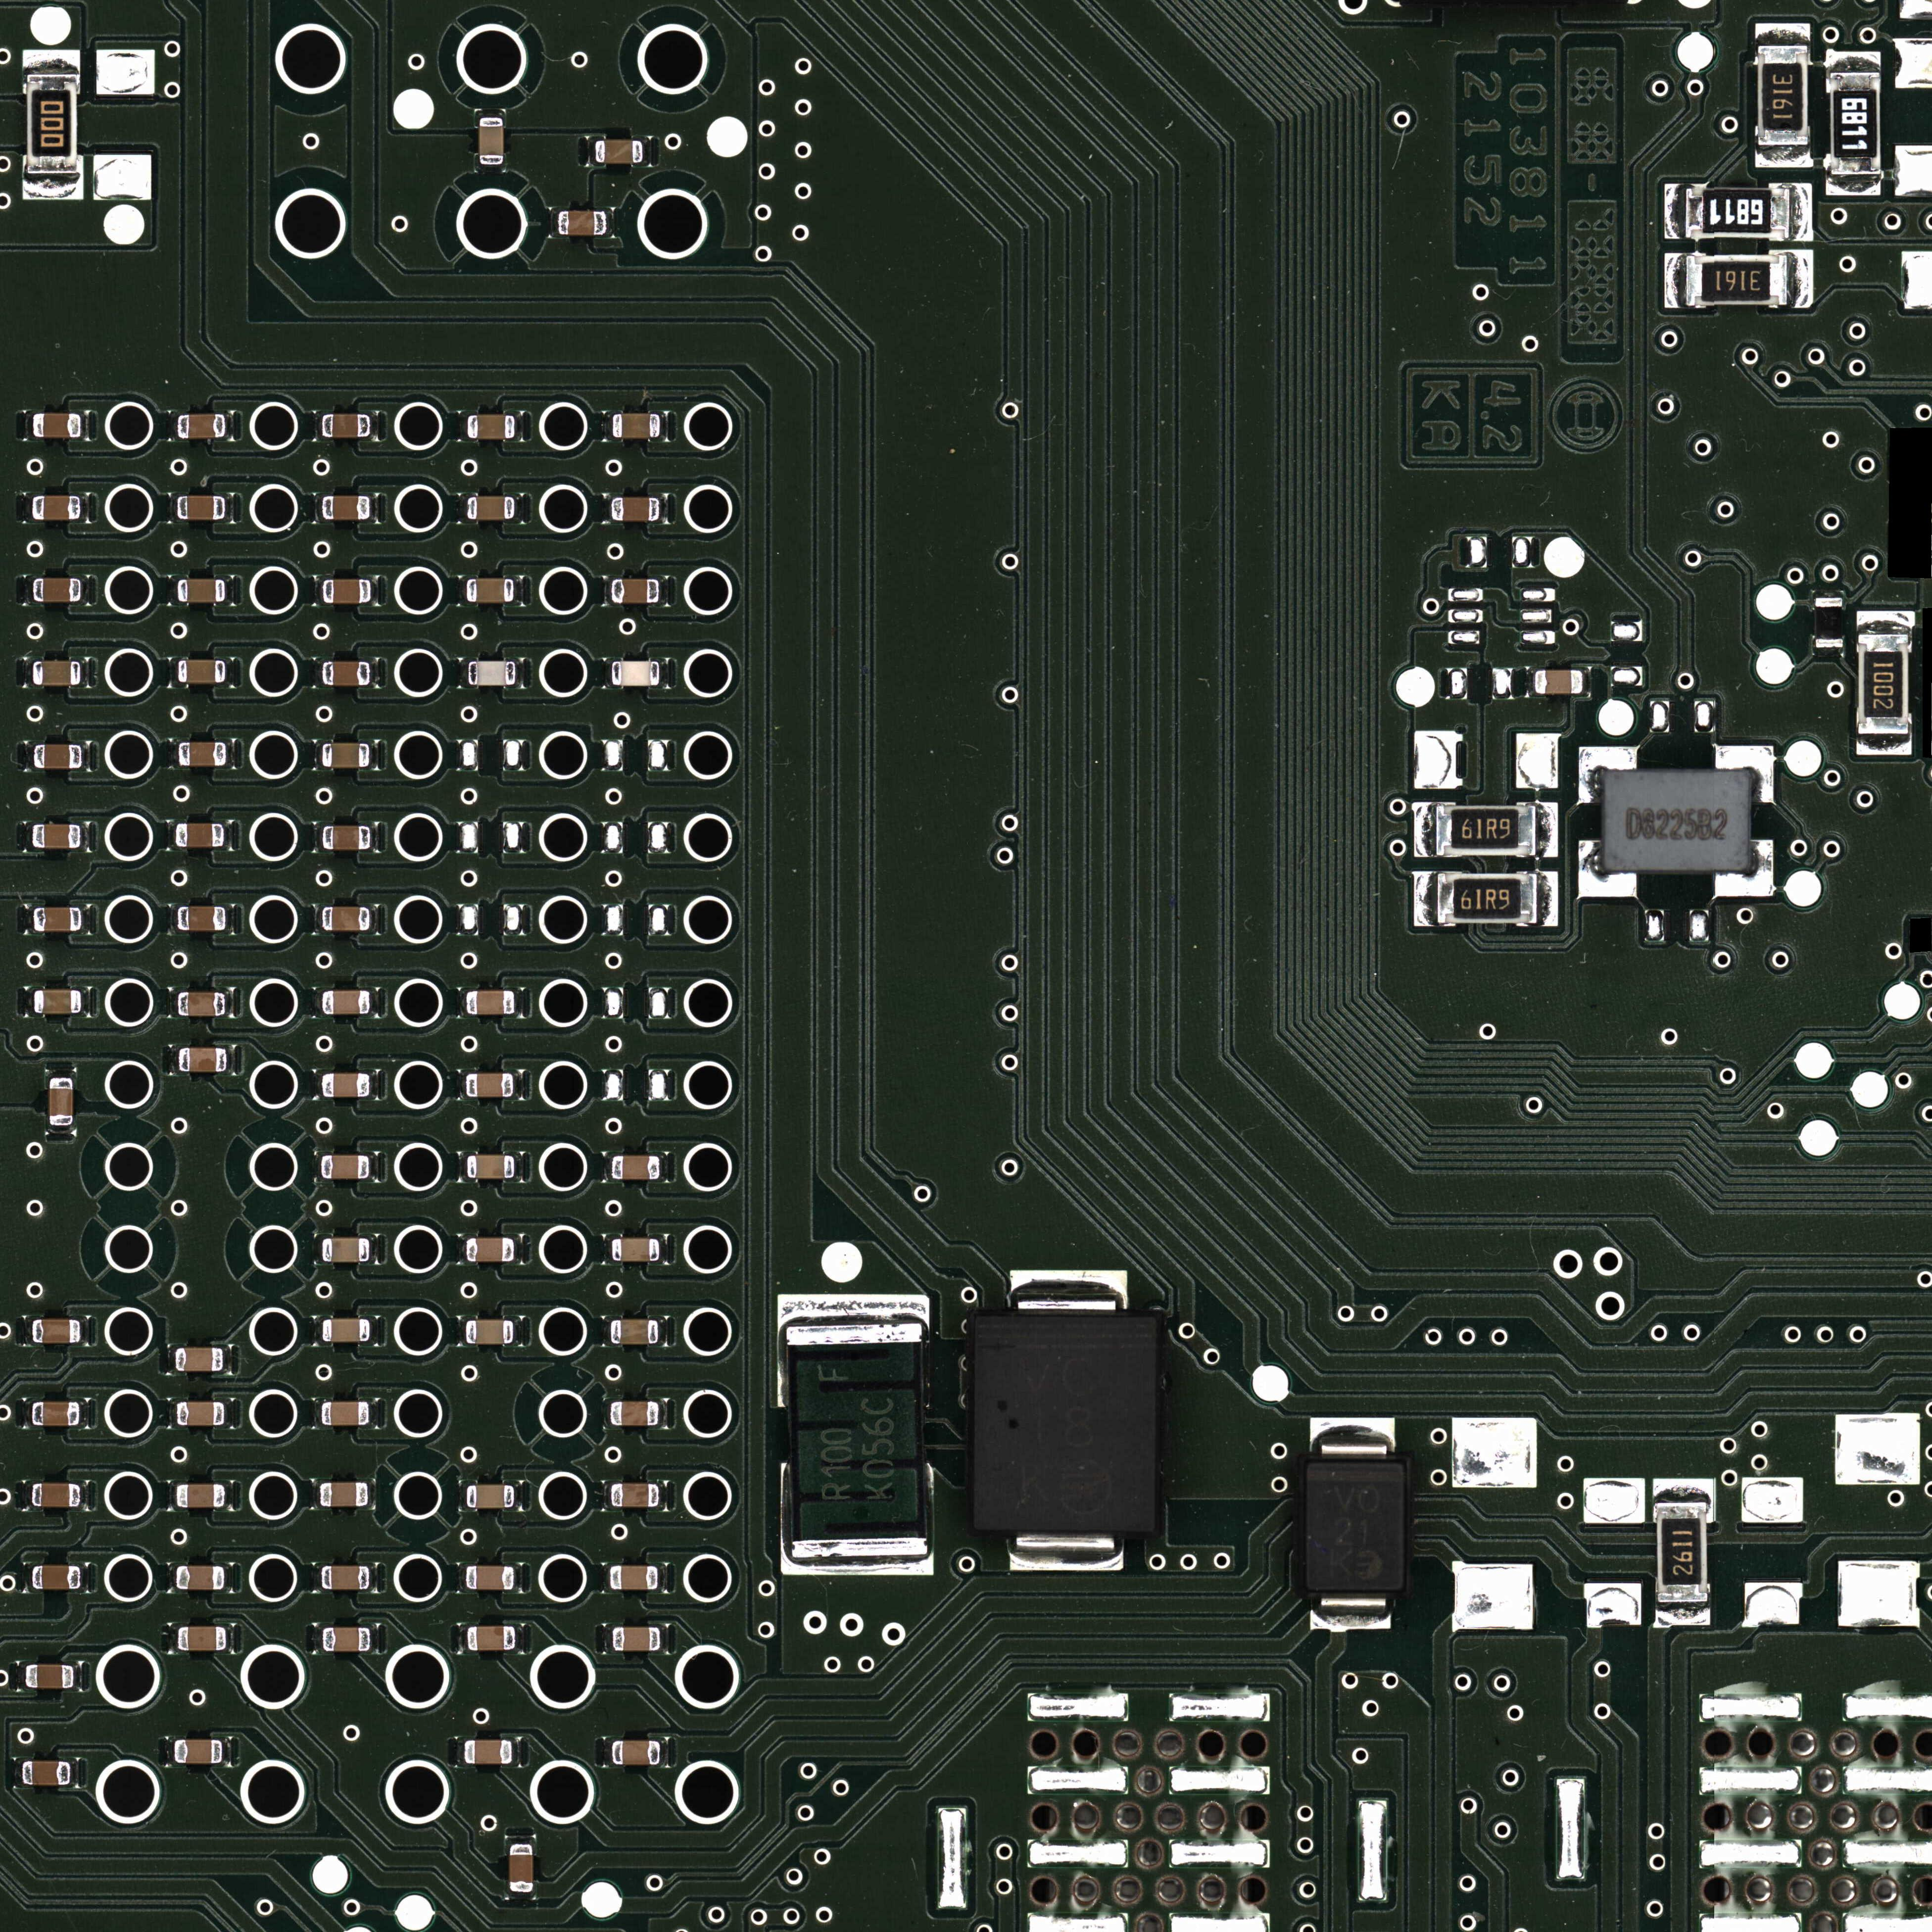Package: (974, 1315, 1158, 1533), (789, 1328, 925, 1556), (1598, 769, 1755, 871), (1304, 1461, 1405, 1592), (1685, 186, 1790, 239), (1829, 72, 1881, 174), (1655, 1502, 1708, 1602), (26, 74, 78, 174), (1437, 873, 1538, 924), (1436, 806, 1537, 856), (1757, 46, 1808, 145), (1858, 634, 1909, 733), (1686, 255, 1787, 305), (1815, 598, 1842, 647), (32, 661, 81, 686), (610, 1319, 659, 1345), (558, 210, 606, 236), (612, 413, 660, 438), (611, 579, 659, 604), (467, 414, 515, 439), (612, 661, 660, 686), (177, 906, 226, 931), (611, 1401, 659, 1426), (466, 990, 515, 1015), (610, 1565, 658, 1590), (177, 495, 225, 520), (33, 413, 81, 438), (611, 497, 660, 522), (32, 495, 81, 520), (178, 1626, 226, 1651), (32, 1319, 81, 1344), (178, 1048, 227, 1072), (322, 743, 370, 768), (176, 1566, 225, 1590), (1535, 670, 1583, 694), (466, 1565, 514, 1590), (321, 1565, 369, 1590), (612, 1740, 660, 1765), (467, 1626, 515, 1651), (320, 1482, 368, 1507), (32, 1401, 80, 1426), (174, 1739, 222, 1764), (323, 579, 371, 604), (176, 823, 224, 847), (611, 1483, 659, 1507), (32, 824, 81, 848), (33, 578, 81, 602), (464, 1740, 512, 1764), (176, 1484, 225, 1508), (34, 990, 81, 1014), (178, 992, 225, 1016), (323, 825, 370, 850), (178, 414, 225, 438), (613, 1627, 660, 1651), (178, 742, 226, 767), (468, 661, 516, 685), (322, 1073, 370, 1098), (322, 1238, 370, 1262), (322, 495, 370, 520), (322, 661, 370, 686), (466, 1320, 513, 1345), (22, 1761, 70, 1786), (612, 1156, 660, 1180), (178, 660, 226, 684), (32, 1565, 80, 1590), (177, 1401, 225, 1426), (322, 907, 370, 931), (34, 907, 82, 931), (34, 744, 82, 769), (32, 1483, 80, 1507), (26, 1664, 74, 1689), (466, 1238, 514, 1262), (321, 1401, 369, 1426), (479, 118, 504, 165), (322, 990, 370, 1014), (323, 1627, 370, 1651), (322, 414, 370, 437), (321, 1155, 369, 1179), (466, 1073, 514, 1097), (467, 496, 515, 520), (49, 1077, 73, 1125), (175, 1348, 223, 1371), (467, 579, 514, 603), (595, 140, 643, 164), (509, 1844, 533, 1892), (178, 579, 225, 603), (467, 1155, 515, 1179), (322, 1318, 370, 1342), (467, 1485, 514, 1508), (612, 1238, 660, 1261)
Solder: (1010, 1270, 1128, 1311), (777, 1295, 930, 1325), (1009, 1534, 1124, 1571), (1310, 1417, 1396, 1461), (1715, 745, 1774, 802), (1715, 840, 1774, 897), (1579, 840, 1637, 897), (1579, 746, 1637, 802), (1311, 1593, 1392, 1630), (781, 1558, 934, 1576), (23, 175, 83, 200), (1788, 250, 1813, 308), (1653, 1479, 1714, 1501), (23, 50, 80, 74), (1857, 611, 1914, 633), (1790, 183, 1812, 241), (1655, 1603, 1710, 1626), (1755, 146, 1812, 168), (1414, 871, 1437, 926), (1755, 23, 1810, 45), (1856, 735, 1912, 756), (1414, 802, 1435, 858), (1664, 183, 1685, 239), (1537, 803, 1558, 857), (1826, 51, 1881, 72), (1665, 253, 1685, 308), (1826, 176, 1881, 196), (1539, 871, 1558, 926), (225, 1398, 235, 1428), (223, 1345, 233, 1375), (169, 1045, 178, 1075), (458, 1623, 467, 1654), (168, 1623, 177, 1654), (603, 1623, 612, 1654), (81, 1315, 90, 1347), (226, 987, 235, 1018), (586, 136, 595, 167), (313, 1623, 322, 1654), (46, 1068, 76, 1077), (659, 1398, 668, 1429), (643, 136, 652, 167), (603, 411, 612, 442), (370, 1398, 379, 1429), (313, 822, 322, 853), (458, 411, 467, 442), (659, 1316, 668, 1347), (25, 987, 34, 1017), (660, 576, 669, 606), (659, 1563, 668, 1593), (514, 1069, 523, 1100), (168, 658, 177, 688), (459, 659, 468, 688), (370, 987, 379, 1017), (168, 988, 177, 1018), (313, 988, 322, 1017), (513, 1737, 521, 1768), (80, 1398, 89, 1429), (81, 492, 90, 524), (514, 576, 523, 605), (227, 1045, 236, 1075), (1526, 667, 1535, 697), (505, 1835, 536, 1843), (46, 1126, 76, 1134), (223, 1736, 231, 1767), (1583, 667, 1592, 697), (23, 493, 32, 524), (226, 1623, 235, 1654), (514, 1316, 522, 1347), (81, 821, 90, 852), (515, 1234, 523, 1264), (370, 1562, 378, 1593), (226, 492, 234, 523), (81, 1563, 89, 1594), (225, 1562, 234, 1593), (660, 493, 669, 524), (660, 1737, 669, 1768), (476, 108, 505, 117), (516, 1624, 524, 1654), (515, 1481, 523, 1511), (25, 904, 33, 934), (313, 1316, 322, 1346), (458, 1152, 466, 1182), (82, 986, 91, 1016), (82, 904, 91, 934), (169, 411, 177, 441), (458, 493, 467, 524), (603, 1152, 611, 1182), (370, 1069, 379, 1100), (227, 738, 235, 769), (515, 1152, 524, 1182), (515, 987, 524, 1017), (168, 904, 177, 934), (312, 1563, 321, 1593), (660, 658, 669, 688), (603, 1738, 612, 1767), (659, 1481, 668, 1510), (476, 165, 505, 174), (370, 658, 379, 687), (313, 904, 322, 934), (226, 904, 235, 934), (370, 1152, 378, 1181), (167, 1344, 175, 1375), (368, 1478, 376, 1509), (661, 1624, 669, 1655), (370, 740, 379, 770), (168, 577, 177, 606), (313, 659, 322, 688), (371, 1623, 379, 1654), (168, 1398, 176, 1429), (82, 410, 90, 441), (371, 411, 379, 441), (371, 493, 379, 524), (505, 1892, 536, 1900), (226, 411, 234, 441), (70, 1758, 78, 1788), (661, 411, 669, 442), (25, 741, 33, 772), (24, 411, 32, 441), (24, 576, 32, 606), (1813, 648, 1843, 656), (24, 658, 32, 688), (603, 493, 611, 524), (314, 1234, 322, 1264), (458, 1480, 466, 1510), (371, 1315, 379, 1346), (225, 820, 233, 850), (515, 493, 523, 524), (371, 822, 379, 852), (515, 1563, 523, 1593), (313, 1399, 321, 1429), (660, 1234, 668, 1264), (660, 1152, 668, 1182), (516, 658, 524, 688), (603, 576, 611, 606), (166, 1737, 174, 1767), (314, 576, 322, 606), (603, 1481, 611, 1510), (602, 1316, 610, 1346), (314, 740, 322, 770), (371, 904, 379, 934), (603, 1234, 611, 1264), (457, 1563, 465, 1593), (24, 821, 32, 851), (168, 1481, 176, 1511), (370, 1234, 378, 1264), (83, 741, 91, 771), (313, 1070, 321, 1100), (226, 576, 234, 605), (456, 1737, 464, 1767), (169, 493, 177, 523), (167, 821, 175, 850), (74, 1662, 82, 1691), (81, 1480, 88, 1511), (226, 657, 234, 686), (607, 207, 615, 238), (24, 1398, 32, 1429), (516, 411, 523, 441), (458, 1235, 466, 1264), (550, 207, 557, 238), (314, 493, 322, 523), (24, 1481, 32, 1511), (372, 576, 379, 606), (24, 1316, 32, 1346), (24, 1562, 32, 1593), (602, 1563, 609, 1593), (314, 411, 321, 441), (226, 1481, 233, 1511), (81, 657, 89, 687), (170, 740, 178, 768), (1813, 590, 1843, 597), (312, 1479, 319, 1509), (18, 1661, 25, 1691), (458, 1316, 465, 1346), (168, 1563, 175, 1593), (14, 1758, 22, 1787), (458, 988, 466, 1017), (604, 659, 611, 688), (458, 577, 466, 606), (458, 1070, 466, 1099), (603, 1398, 610, 1428), (82, 575, 89, 605), (314, 1151, 320, 1181)
